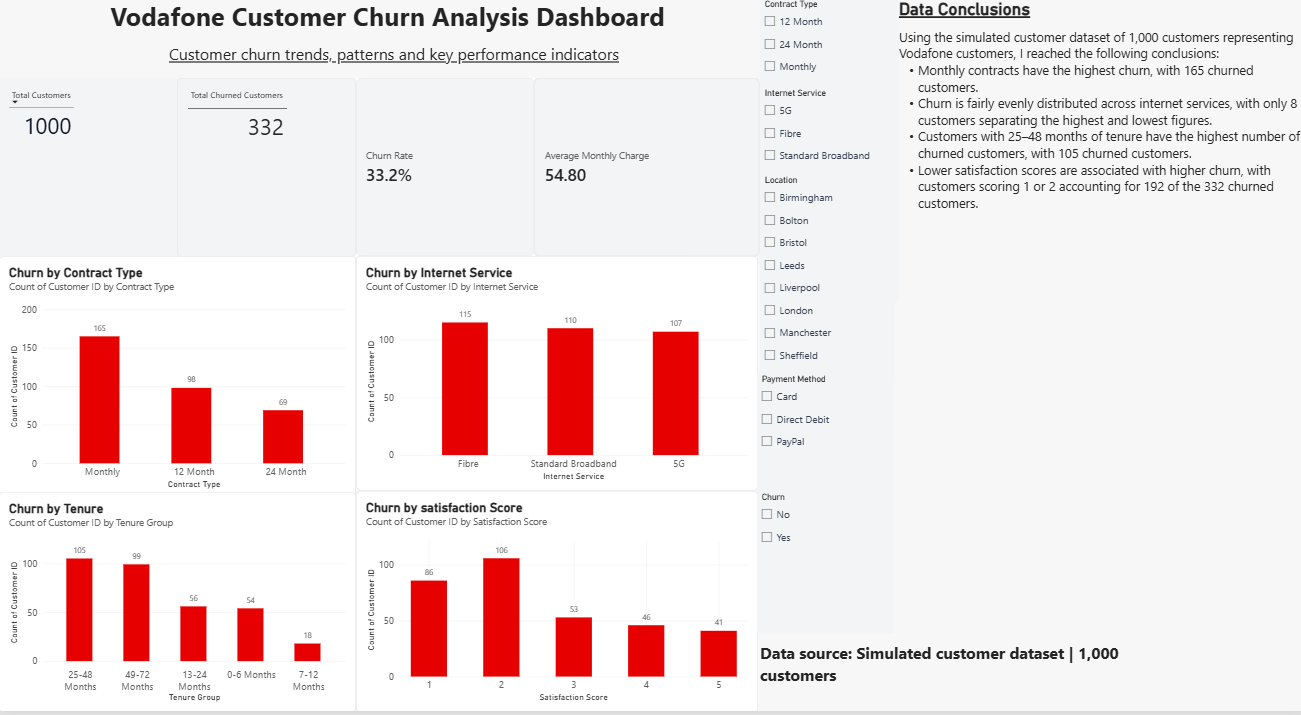

The dashboard page shown, as its layout file describes it:
{"tool":"powerbi","page":{"name":"Page 1","canvas":[2200,1200],"ordinal":0},"visuals":[{"type":"tableEx","fields":{"Values":["Customer Data.Customer ID"]},"box":[0,132.7,300.5,300.5],"z":0},{"type":"tableEx","fields":{"Values":["Customer Data.Customer ID"]},"box":[300.5,132.7,300.5,300.5],"z":1000},{"type":"cardVisual","fields":{"Data":["Customer Data.Churn Rate"]},"box":[601.1,132.7,300.5,300.5],"z":2000},{"type":"cardVisual","fields":{"Data":["Customer Data.Average Monthly Charge"]},"box":[901.1,133.1,380.2,300.4],"z":3000},{"type":"clusteredColumnChart","title":"Churn by Contract Type ","fields":{"Category":["Customer Data.Contract Type"],"Y":["CountNonNull(Customer Data.Customer ID)"]},"box":[0,433.2,601.1,409.3],"z":4000},{"type":"clusteredColumnChart","title":"Churn by Internet Service","fields":{"Category":["Customer Data.Internet Service"],"Y":["CountNonNull(Customer Data.Customer ID)"]},"box":[600.7,433.4,676.8,395.4],"z":5000},{"type":"clusteredColumnChart","title":"Churn by Tenure","fields":{"Category":["Customer Data.Tenure Group"],"Y":["CountNonNull(Customer Data.Customer ID)"]},"box":[0,829.7,601.1,370.9],"z":6000},{"type":"clusteredColumnChart","title":"Churn by satisfaction Score","fields":{"Category":["Customer Data.Satisfaction Score"],"Y":["CountNonNull(Customer Data.Customer ID)"]},"box":[600.7,828.8,676.8,372.6],"z":7000},{"type":"slicer","fields":{"Values":["Customer Data.Contract Type"]},"box":[1281.3,0,233.8,150.2],"z":8000},{"type":"slicer","fields":{"Values":["Customer Data.Internet Service"]},"box":[1281.3,150.2,233.8,361.2],"z":9000},{"type":"slicer","fields":{"Values":["Customer Data.Location"]},"box":[1281.3,296.6,226.2,361.2],"z":10000},{"type":"slicer","fields":{"Values":["Customer Data.Payment Method"]},"box":[1277.5,631.1,230.2,257.4],"z":11000},{"type":"slicer","fields":{"Values":["Customer Data.Churn"]},"box":[1277.5,830.7,230,237.6],"z":12000},{"type":"textbox","box":[155.9,0,996.1,150.2],"z":13000},{"type":"textbox","box":[287,74.1,872.6,150.2],"z":14000},{"type":"textbox","box":[1281.3,1083.6,638.7,116],"z":15000},{"type":"textbox","title":"Data Conclusions","box":[1516.1,0,683.9,478.4],"z":16000}]}

Visuals, with their boxes in screenshot pixels (x1, y1, x2, y2), scaled from the page's 2200x1200 canvas onto the 1301x715 screenshot:
tableEx - Customer Data.Customer ID: BBox(0, 79, 178, 258)
tableEx - Customer Data.Customer ID: BBox(178, 79, 355, 258)
cardVisual - Customer Data.Churn Rate: BBox(355, 79, 533, 258)
cardVisual - Customer Data.Average Monthly Charge: BBox(533, 79, 758, 258)
"Churn by Contract Type " clusteredColumnChart: BBox(0, 258, 355, 502)
"Churn by Internet Service" clusteredColumnChart: BBox(355, 258, 755, 494)
"Churn by Tenure" clusteredColumnChart: BBox(0, 494, 355, 714)
"Churn by satisfaction Score" clusteredColumnChart: BBox(355, 494, 755, 714)
slicer - Customer Data.Contract Type: BBox(758, 0, 896, 89)
slicer - Customer Data.Internet Service: BBox(758, 89, 896, 305)
slicer - Customer Data.Location: BBox(758, 177, 891, 392)
slicer - Customer Data.Payment Method: BBox(755, 376, 892, 529)
slicer - Customer Data.Churn: BBox(755, 495, 891, 637)
textbox: BBox(92, 0, 681, 89)
textbox: BBox(170, 44, 686, 134)
textbox: BBox(758, 646, 1135, 714)
"Data Conclusions" textbox: BBox(897, 0, 1300, 285)
